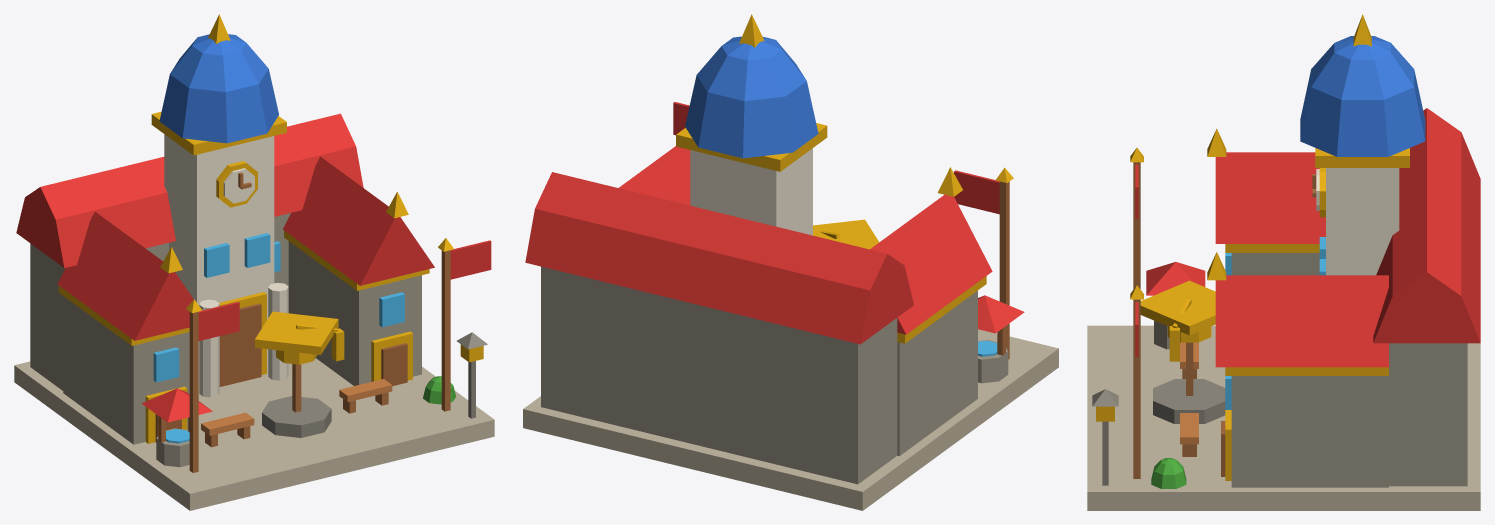
The model's file is university_t3_v3.glb.
3 views of the same model, side by side, from view 1: azimuth 30°, elevation 25°; view 2: azimuth 150°, elevation 25°; view 3: azimuth 270°, elevation 25° (orthographic). The views are drawn at different scales.
Visible parts, largest first — view 1: university_t3_v3; view 2: university_t3_v3; view 3: university_t3_v3.
Part boxes in pixels (x1,y1,x2,y2): university_t3_v3: (14,14,494,510); university_t3_v3: (523,14,1058,510); university_t3_v3: (1087,14,1480,510).
Size of the model in its own units: 0.795 by 0.87 by 0.75.
Materials: 1 (1 with a texture image).
